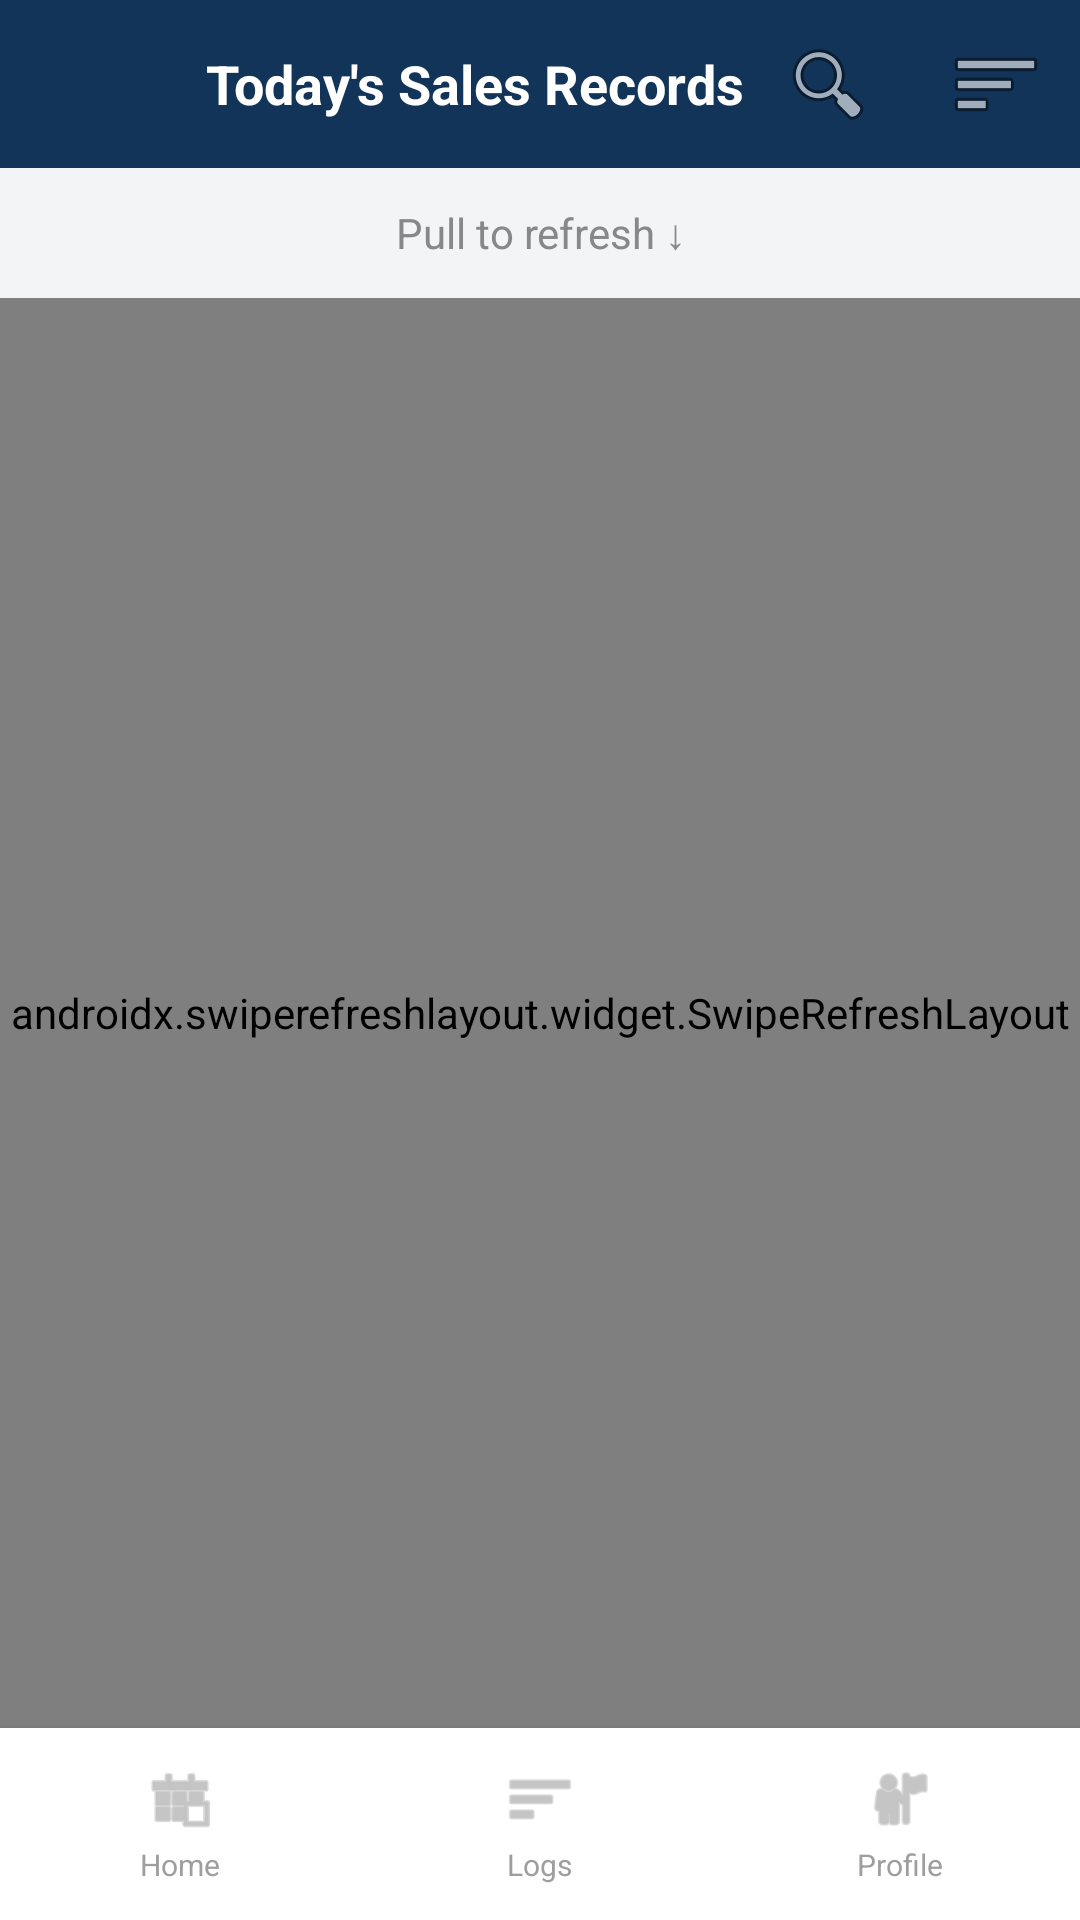

Point at icon controls on the screen. Image size 1080w x 1920h, points as point (x, y).
myplaces: point (901, 1799)
today: point (181, 1800)
